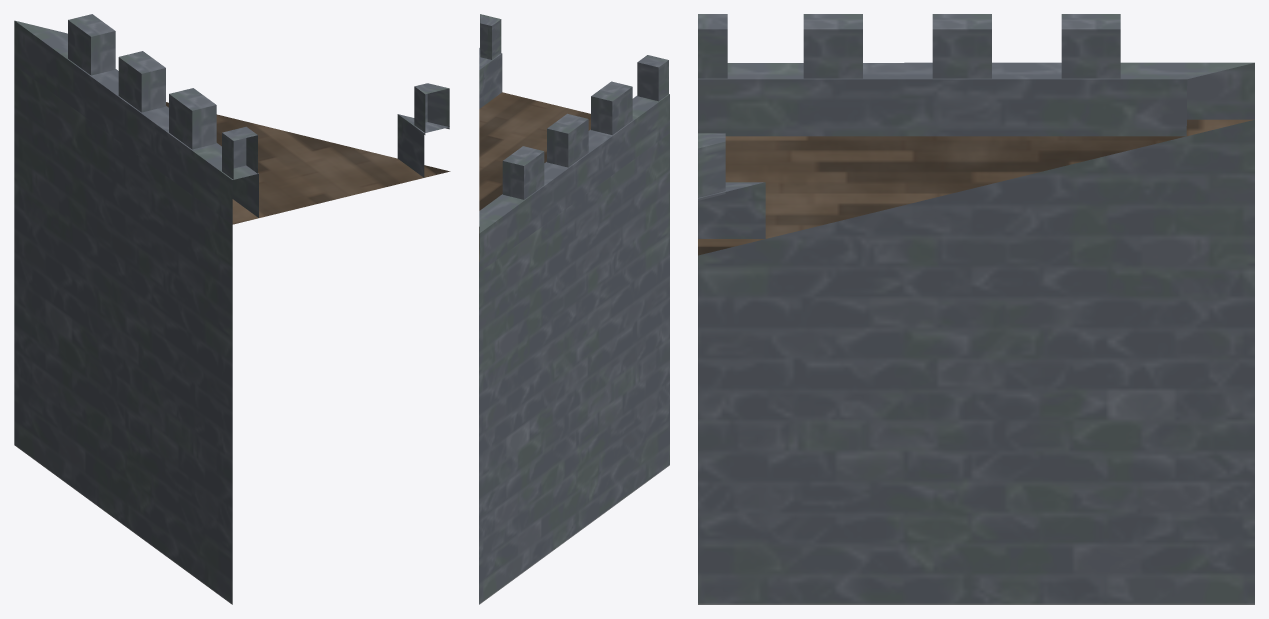
File: SM_Fortress_Angle60_2.fbx
3 renders of one model, left to right at view 1: azimuth 30°, elevation 25°; view 2: azimuth 150°, elevation 25°; view 3: azimuth 270°, elevation 25°, orthographic. The views are drawn at different scales.
Visible parts, largest first — view 1: polySurface901; view 2: polySurface901; view 3: polySurface901.
Part boxes in pixels (x1,y1,x2,y2): polySurface901: (14, 14, 450, 604); polySurface901: (479, 14, 669, 604); polySurface901: (698, 14, 1254, 604).
Bounding box in the file's own units: 330 × 670 × 572.
